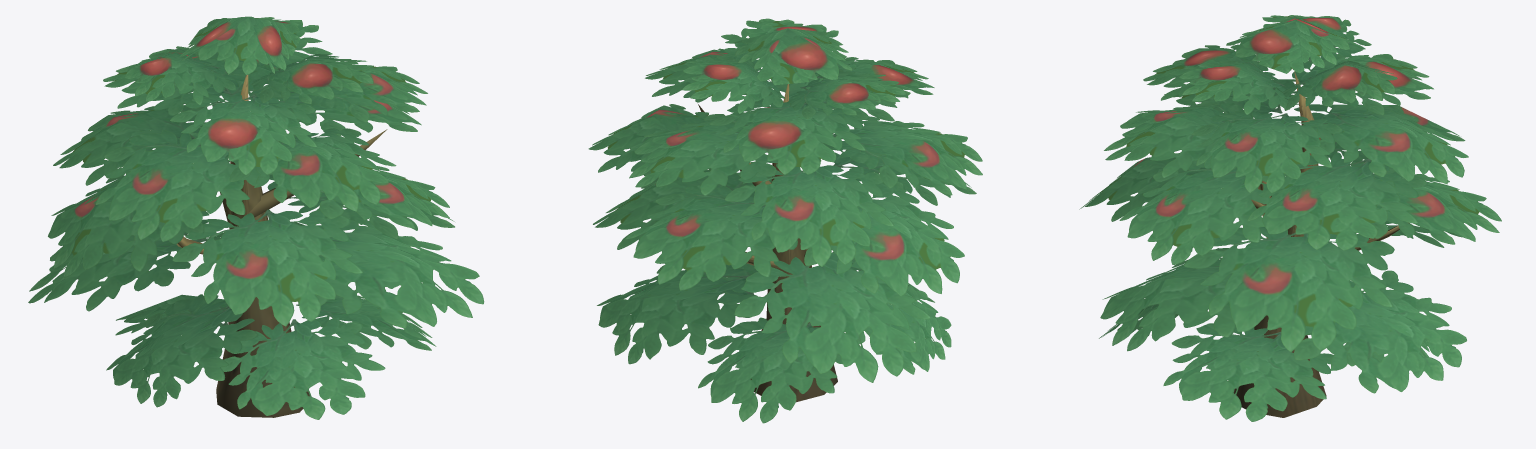
File: main_map_tree_26.fbx
The picture shows the model from 3 angles, left to right: view 1: azimuth 30°, elevation 25°; view 2: azimuth 150°, elevation 25°; view 3: azimuth 270°, elevation 25°; orthographic projection. The views are drawn at different scales.
Visible parts, largest first — view 1: main_map_tree_26; view 2: main_map_tree_26; view 3: main_map_tree_26.
Part boxes in pixels (x1,y1,x2,y2): main_map_tree_26: [28, 16, 484, 419]; main_map_tree_26: [588, 18, 982, 423]; main_map_tree_26: [1079, 15, 1501, 421].
Bounding box in the file's own units: 143 × 126 × 145.
